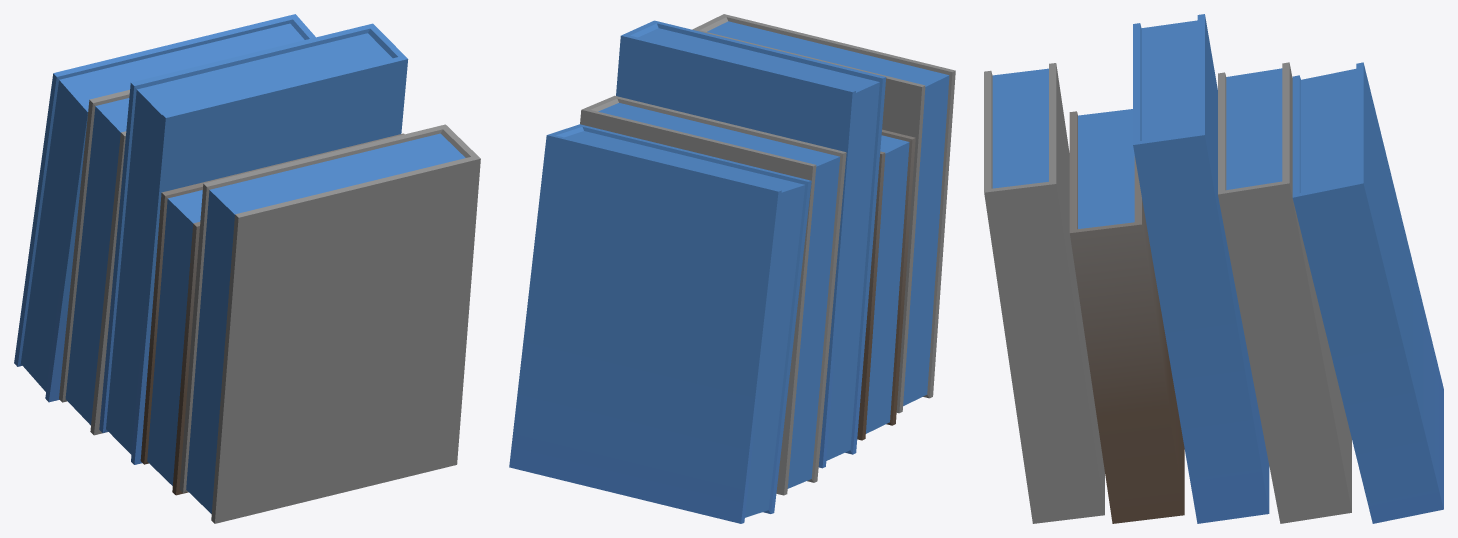
The model's file is LivingRoom2_books_7.fbx.
3 renders of one model, left to right at view 1: azimuth 30°, elevation 25°; view 2: azimuth 150°, elevation 25°; view 3: azimuth 270°, elevation 25°, orthographic. The views are drawn at different scales.
Parts seen in each view (by area): view 1: LivingRoom2_books_7; view 2: LivingRoom2_books_7; view 3: LivingRoom2_books_7.
Boxes of the visible parts, x1,y1,x2,y2 form: LivingRoom2_books_7: (14,14,480,523); LivingRoom2_books_7: (509,14,955,523); LivingRoom2_books_7: (984,14,1443,523).
Size of the model in its own units: 19.16 by 28.7 by 30.74.
